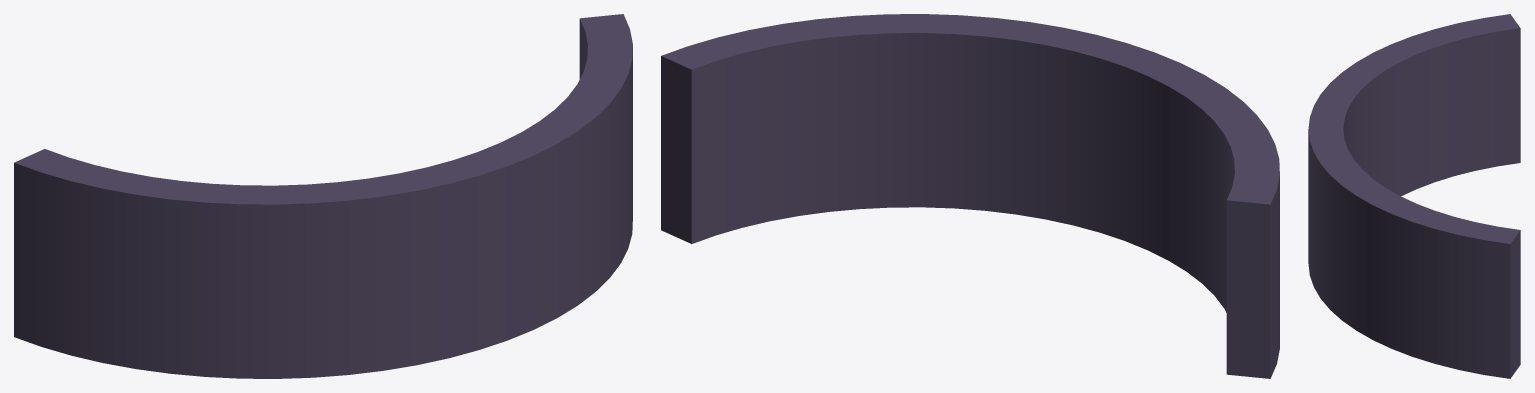
The model's file is Inner_05.fbx.
3 renders of one model, left to right at view 1: azimuth 30°, elevation 25°; view 2: azimuth 150°, elevation 25°; view 3: azimuth 270°, elevation 25°, orthographic. The views are drawn at different scales.
Visible parts, largest first — view 1: Inner_05; view 2: Inner_05; view 3: Inner_05.
Boxes of the visible parts, bbox=[...] form: Inner_05: bbox=[14, 14, 632, 378]; Inner_05: bbox=[661, 14, 1279, 378]; Inner_05: bbox=[1308, 14, 1520, 378].
Size of the model in its own units: 127 by 34.73 by 49.46.
